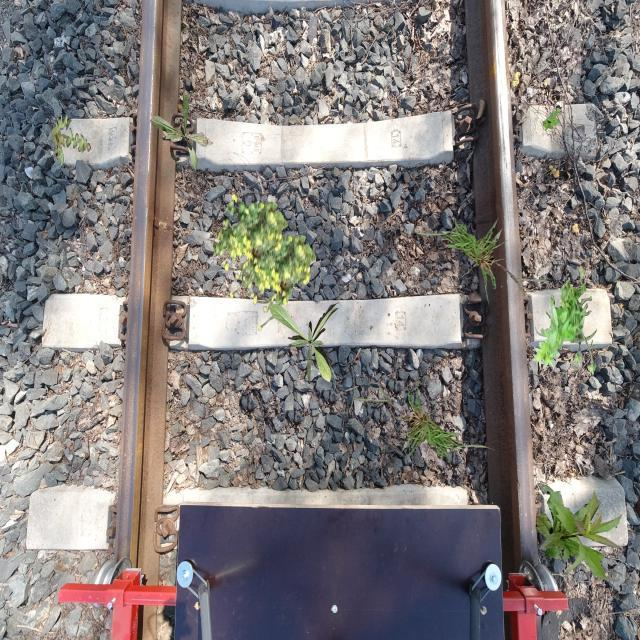Plant: (406, 216, 550, 306), (354, 375, 498, 465), (536, 483, 624, 580), (242, 227, 317, 332), (214, 194, 289, 299), (532, 268, 596, 376), (269, 302, 341, 383), (150, 91, 214, 175), (50, 114, 92, 168), (542, 108, 562, 132)
